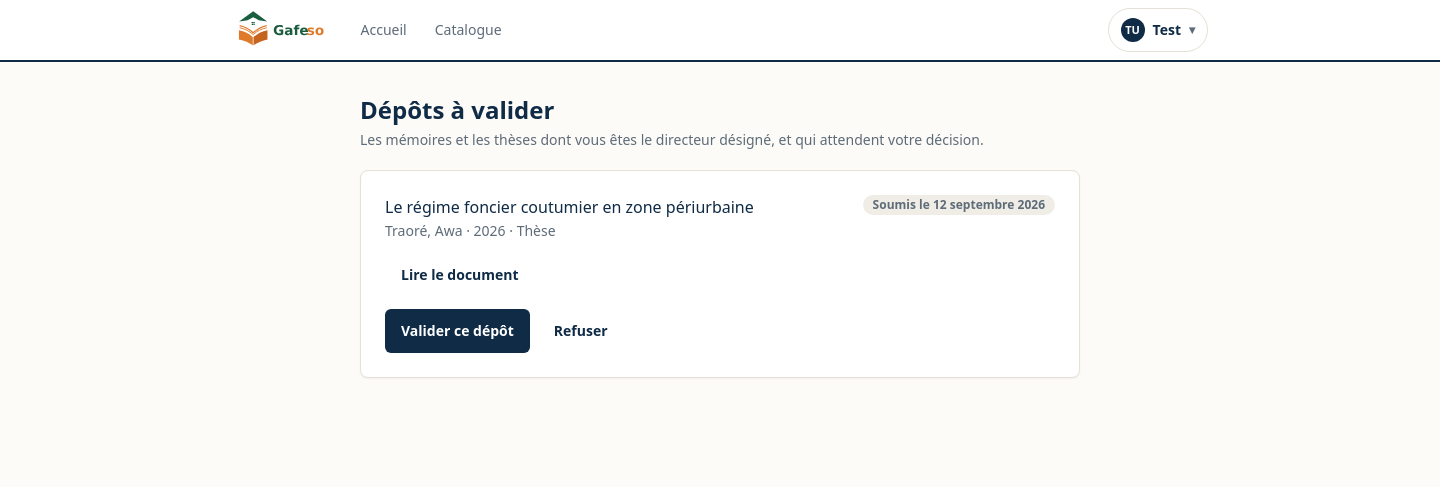
Test: Dépôts à valider · le déposant est-il prévenu ? › ⚠ un échec de courriel n’efface pas le succès de la décision
This screenshot has width=1440, height=487.
Click the button "Valider ce dépôt": (457, 331) [385,309,530,353]
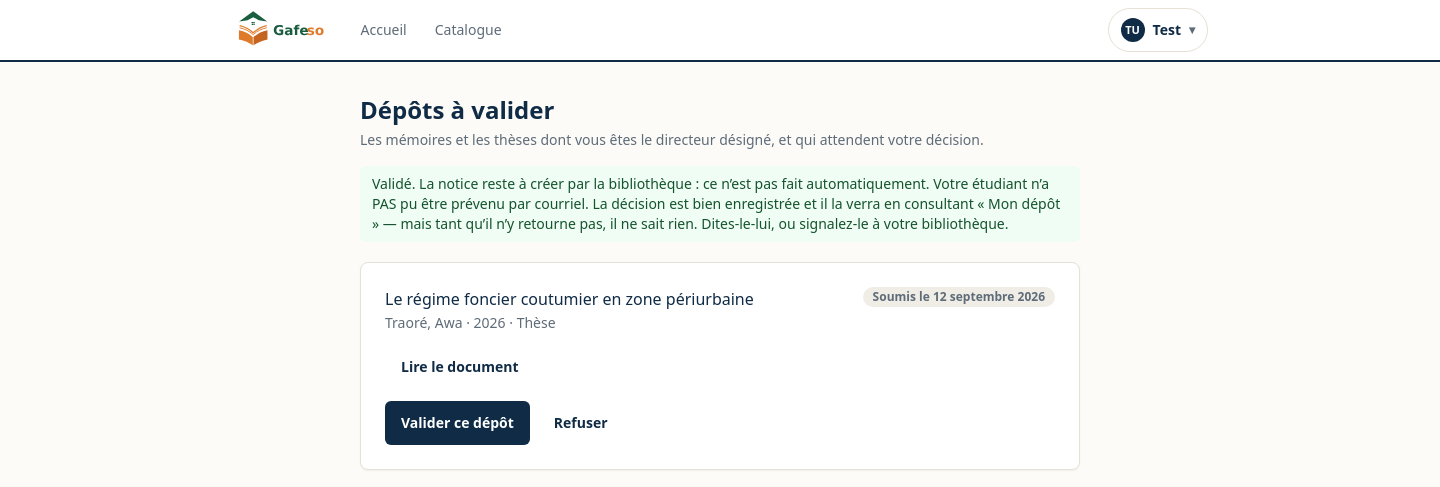
Now the text "Validé. La notice reste à créer par la bibliothèque : ce n’est pas fait automatiquement." is shown, box [372,174,1060,233]
